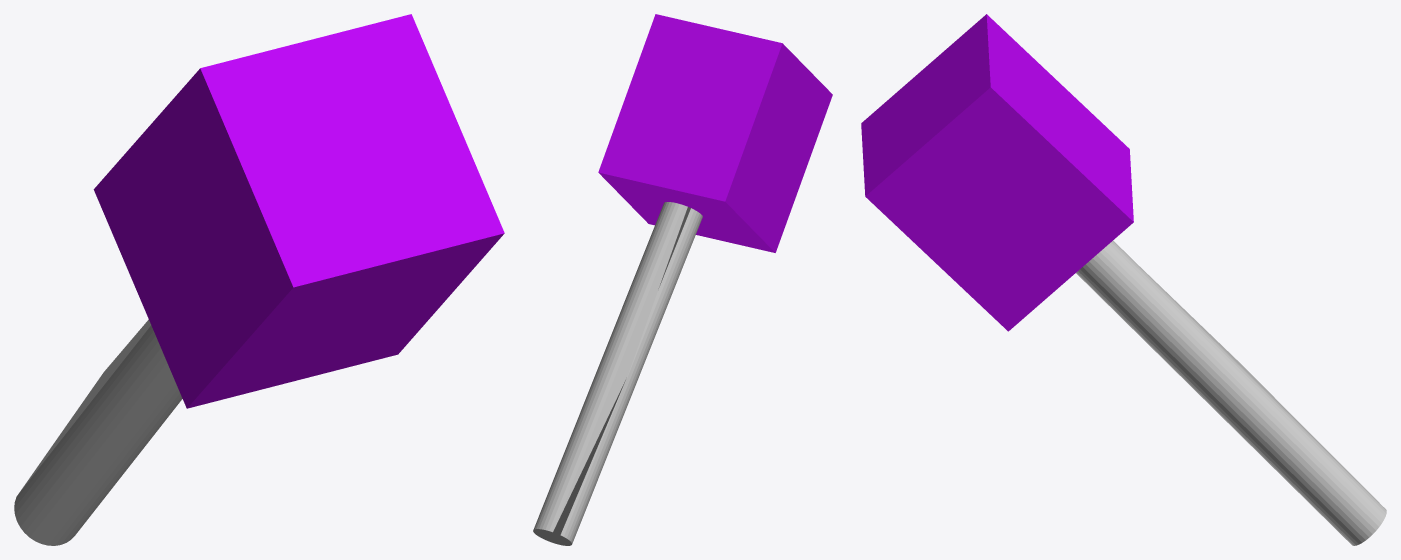
The model's file is phosphate.glb.
The picture shows the model from 3 angles, left to right: view 1: azimuth 30°, elevation 25°; view 2: azimuth 150°, elevation 25°; view 3: azimuth 270°, elevation 25°; orthographic projection. The views are drawn at different scales.
Parts seen in each view (by area): view 1: Phosphate.001; view 2: Phosphate.001; view 3: Phosphate.001.
Part boxes in pixels (left/top/right/bottom): Phosphate.001: left=14, top=14, right=504, bottom=545; Phosphate.001: left=533, top=14, right=832, bottom=545; Phosphate.001: left=861, top=14, right=1386, bottom=545.
Size of the model in its own units: 0.2591 by 0.7766 by 0.7587.
